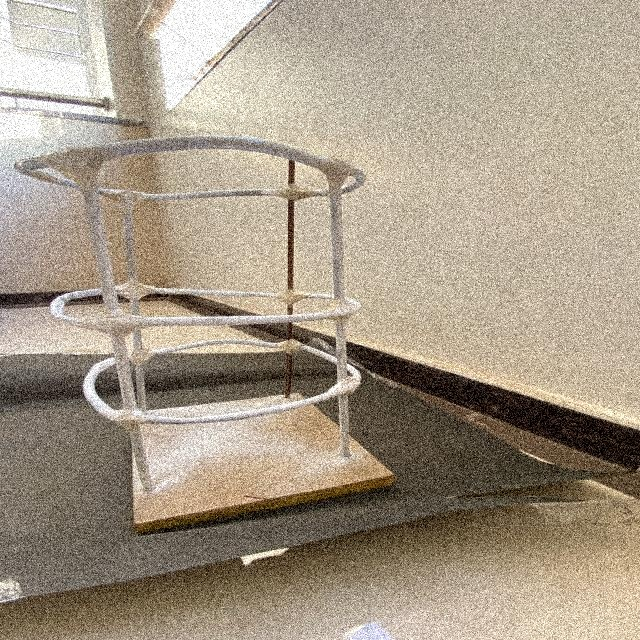silo: (0, 131, 395, 530)
